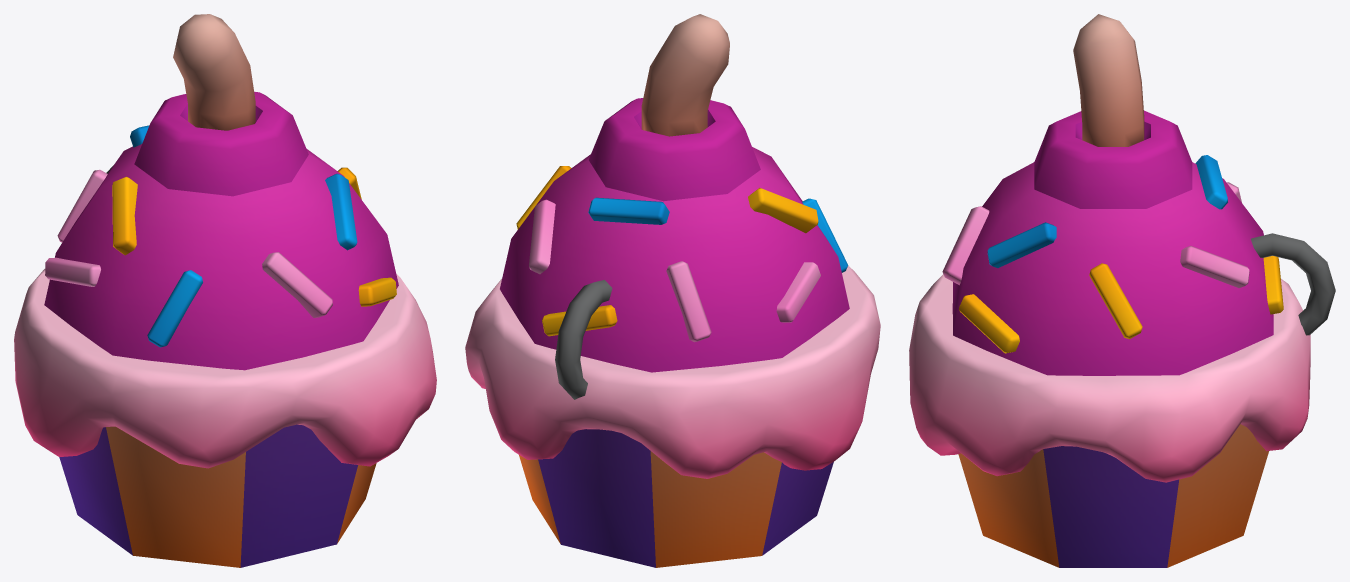
File: Charm_01.fbx
3 renders of one model, left to right at view 1: azimuth 30°, elevation 25°; view 2: azimuth 150°, elevation 25°; view 3: azimuth 270°, elevation 25°, orthographic. The views are drawn at different scales.
Visible parts, largest first — view 1: Charm_01; view 2: Charm_01; view 3: Charm_01.
Part boxes in pixels (box(x1,y1,x2,y2)): Charm_01: box(14, 14, 436, 567); Charm_01: box(465, 14, 880, 567); Charm_01: box(909, 14, 1335, 567).
Bounding box in the file's own units: 4.04 × 5.31 × 4.25.
